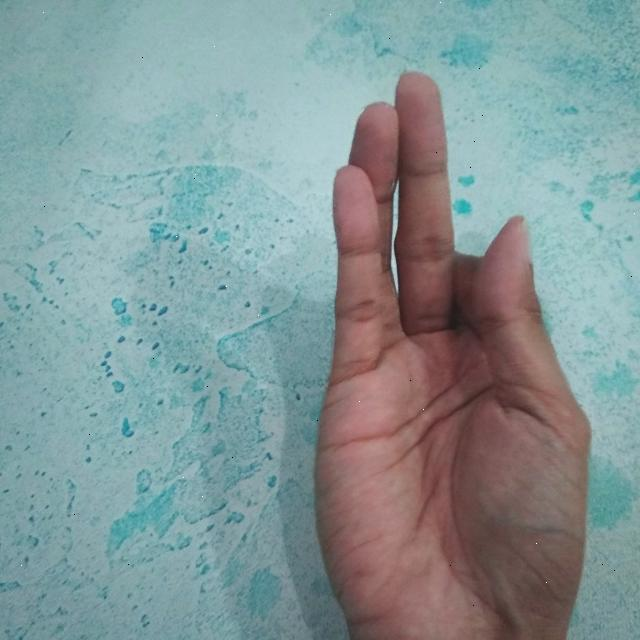F: (311, 67, 598, 640)
